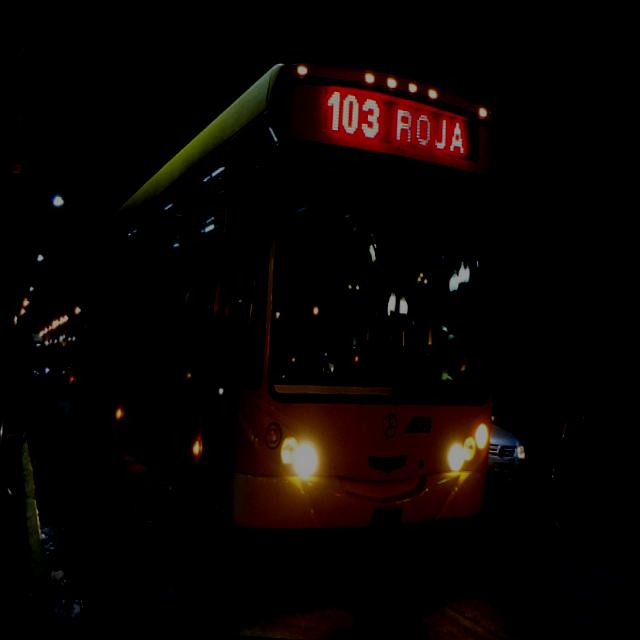Vehicle: (60, 43, 512, 560), (546, 369, 636, 546), (484, 422, 529, 504), (27, 341, 71, 400)
